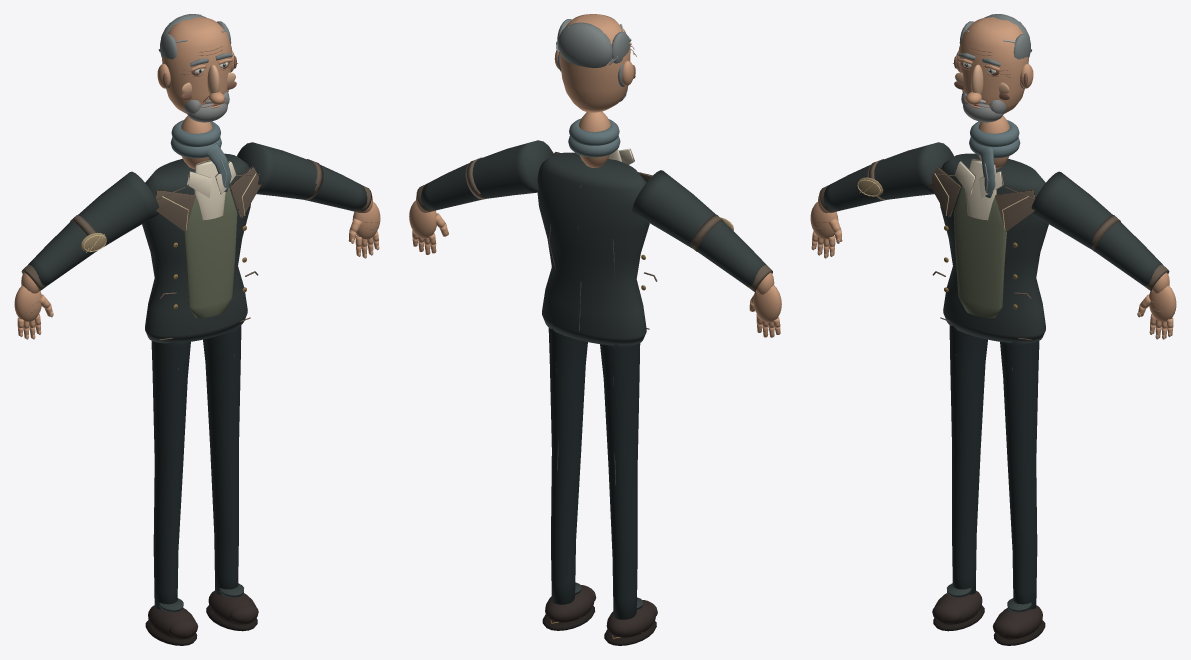
3 renders of one model, left to right at view 1: azimuth 30°, elevation 25°; view 2: azimuth 150°, elevation 25°; view 3: azimuth 330°, elevation 25°, orthographic.
Parts seen in each view (by area): view 1: Jacket body, Left trouser, Right trouser, Left jacket sleeve, Waistcoat front, Right jacket sleeve, Long aged face, Left jacket lapel, Shirt bib, Right jacket lapel, Left leather shoe, Right leather shoe (+5 smaller); view 2: Jacket body, Left trouser, Right trouser, Left jacket sleeve, Right jacket sleeve, Long aged face, Back combed hair, Right leather shoe, Left leather shoe, Scarf upper wrap, Neck, Left palm (+2 smaller); view 3: Jacket body, Right trouser, Left trouser, Right jacket sleeve, Waistcoat front, Left jacket sleeve, Long aged face, Right jacket lapel, Shirt bib, Left jacket lapel, Right leather shoe, Left leather shoe (+4 smaller).
Boxes of the visible parts, left/top/right/bottom form: Jacket body: left=142, top=153, right=250, bottom=343; Left trouser: left=151, top=341, right=190, bottom=609; Right trouser: left=203, top=325, right=241, bottom=594; Left jacket sleeve: left=28, top=171, right=159, bottom=285; Waistcoat front: left=184, top=187, right=237, bottom=318; Right jacket sleeve: left=237, top=142, right=367, bottom=210; Long aged face: left=162, top=17, right=231, bottom=113; Left jacket lapel: left=155, top=189, right=195, bottom=231; Shirt bib: left=194, top=160, right=225, bottom=220; Right jacket lapel: left=229, top=166, right=261, bottom=217; Left leather shoe: left=148, top=605, right=195, bottom=639; Right leather shoe: left=208, top=590, right=255, bottom=624; Jacket body: left=537, top=152, right=649, bottom=345; Left trouser: left=600, top=343, right=640, bottom=619; Right trouser: left=548, top=328, right=587, bottom=604; Left jacket sleeve: left=632, top=170, right=766, bottom=286; Right jacket sleeve: left=421, top=140, right=553, bottom=209; Long aged face: left=559, top=14, right=630, bottom=112; Back combed hair: left=557, top=22, right=612, bottom=67; Right leather shoe: left=545, top=585, right=594, bottom=622; Left leather shoe: left=606, top=601, right=655, bottom=637; Scarf upper wrap: left=569, top=118, right=619, bottom=145; Neck: left=579, top=111, right=610, bottom=167; Left palm: left=753, top=285, right=781, bottom=322; Jacket body: left=940, top=153, right=1048, bottom=343; Right trouser: left=1000, top=341, right=1039, bottom=609; Left trouser: left=949, top=325, right=987, bottom=594; Right jacket sleeve: left=1031, top=171, right=1162, bottom=285; Waistcoat front: left=953, top=186, right=1006, bottom=318; Left jacket sleeve: left=823, top=142, right=953, bottom=210; Long aged face: left=959, top=17, right=1028, bottom=113; Right jacket lapel: left=995, top=189, right=1035, bottom=231; Shirt bib: left=965, top=159, right=996, bottom=220; Left jacket lapel: left=929, top=166, right=961, bottom=217; Right leather shoe: left=995, top=605, right=1042, bottom=639; Left leather shoe: left=935, top=590, right=982, bottom=624.
Bounding box in the file's own units: 2.17 × 3.43 × 0.4273.
